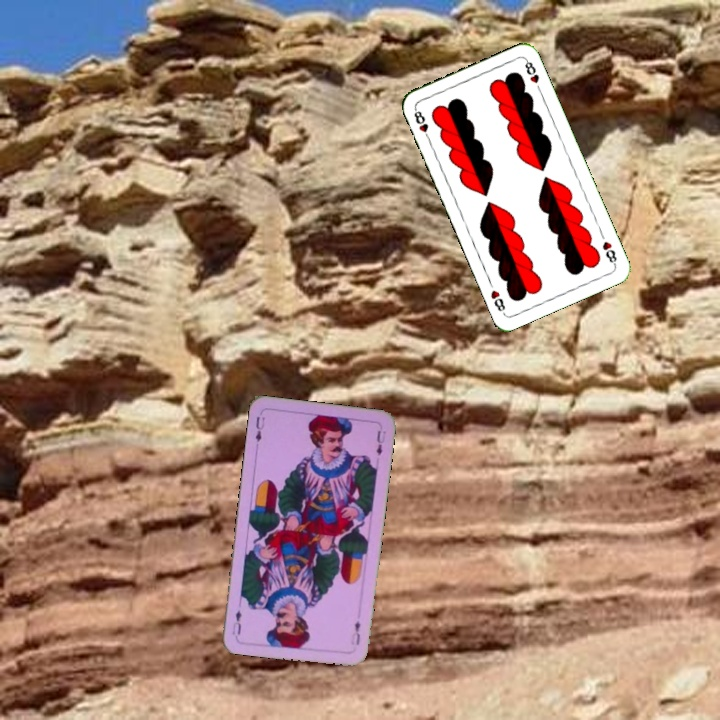EU: (251, 413, 267, 445), (347, 617, 363, 648)
H8: (410, 104, 433, 143), (598, 237, 619, 268)
